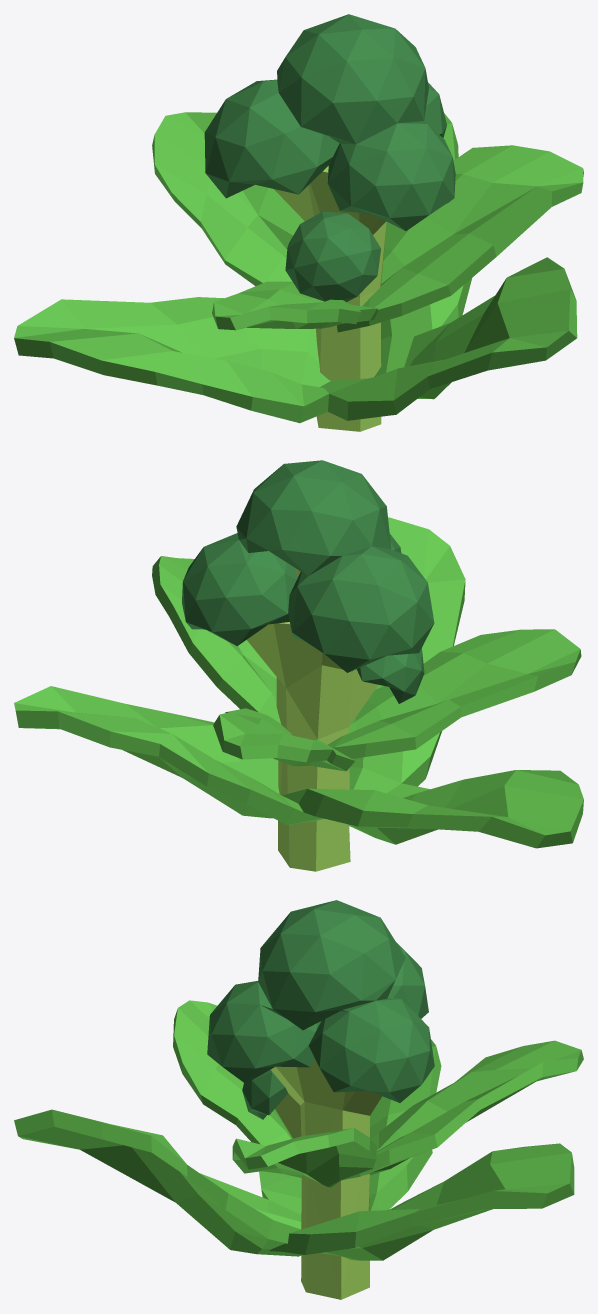
Rendered from Broccoli_L.fbx.
3 views of the same model, one above another, from view 1: azimuth 30°, elevation 25°; view 2: azimuth 150°, elevation 25°; view 3: azimuth 270°, elevation 25° (orthographic). The views are drawn at different scales.
Visible parts, largest first — view 1: Broccoli_L; view 2: Broccoli_L; view 3: Broccoli_L.
Part boxes in pixels (bbox=[...]): Broccoli_L: bbox=[14, 14, 583, 431]; Broccoli_L: bbox=[14, 460, 583, 871]; Broccoli_L: bbox=[14, 900, 583, 1299].
Size of the model in its own units: 48.02 by 36.4 by 49.97.
